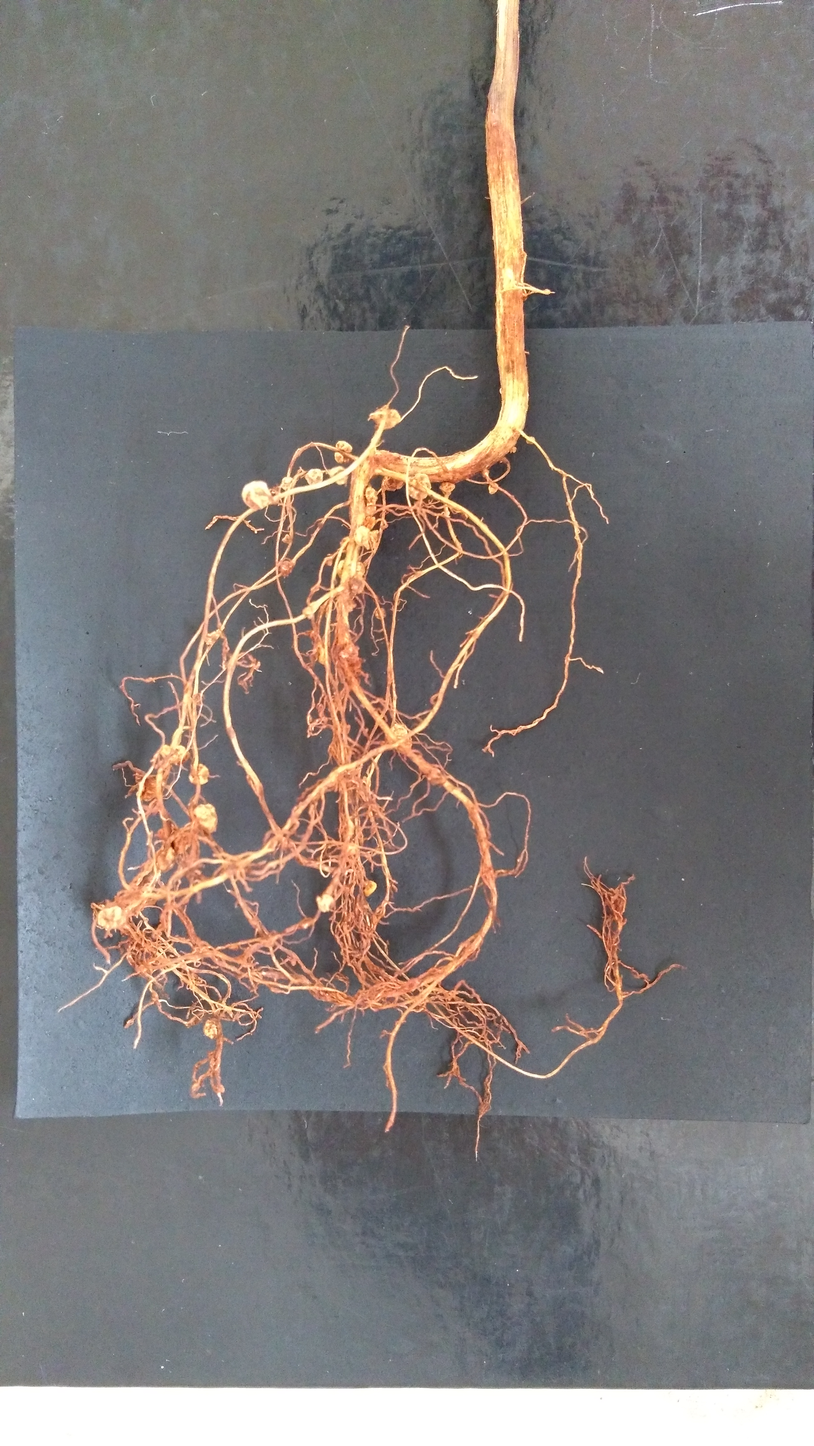nodule: (174, 822, 200, 868), (240, 480, 273, 511), (340, 815, 364, 855), (134, 772, 165, 801), (171, 821, 197, 855), (385, 722, 412, 753), (368, 405, 401, 430), (192, 802, 218, 833), (97, 905, 128, 930), (408, 472, 432, 500), (154, 844, 177, 873), (159, 744, 190, 765), (353, 525, 379, 550), (337, 558, 365, 580), (462, 933, 482, 962), (138, 859, 161, 881), (188, 763, 210, 785), (337, 643, 359, 664), (334, 440, 353, 464), (135, 952, 154, 975), (315, 894, 337, 913), (328, 465, 348, 485), (348, 573, 366, 595), (381, 475, 405, 491), (365, 486, 378, 515), (202, 1017, 219, 1039), (428, 765, 446, 785), (204, 628, 222, 646), (305, 468, 323, 485), (207, 1049, 221, 1070), (401, 978, 421, 991), (318, 647, 331, 666), (363, 880, 378, 896), (363, 515, 377, 530), (439, 481, 454, 495), (280, 561, 293, 577), (363, 482, 372, 505), (281, 476, 295, 490), (340, 536, 350, 553), (157, 828, 171, 840), (302, 605, 313, 620), (191, 692, 204, 704), (374, 607, 387, 619), (345, 599, 356, 612), (338, 723, 351, 734), (488, 482, 499, 494), (361, 775, 371, 788), (344, 912, 355, 923), (150, 929, 162, 939), (251, 659, 261, 671), (150, 990, 159, 1003), (325, 553, 333, 567), (282, 534, 292, 545), (191, 1082, 200, 1092), (460, 513, 469, 523), (480, 469, 489, 478), (526, 436, 536, 444), (217, 1084, 225, 1093), (289, 958, 297, 966), (509, 446, 517, 453), (317, 523, 324, 529), (566, 500, 570, 507), (499, 387, 502, 393)
